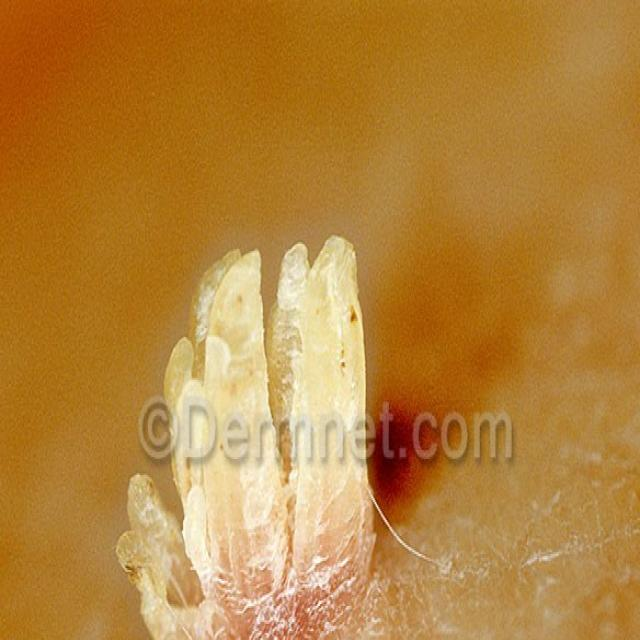Warts: (116, 244, 457, 640)
